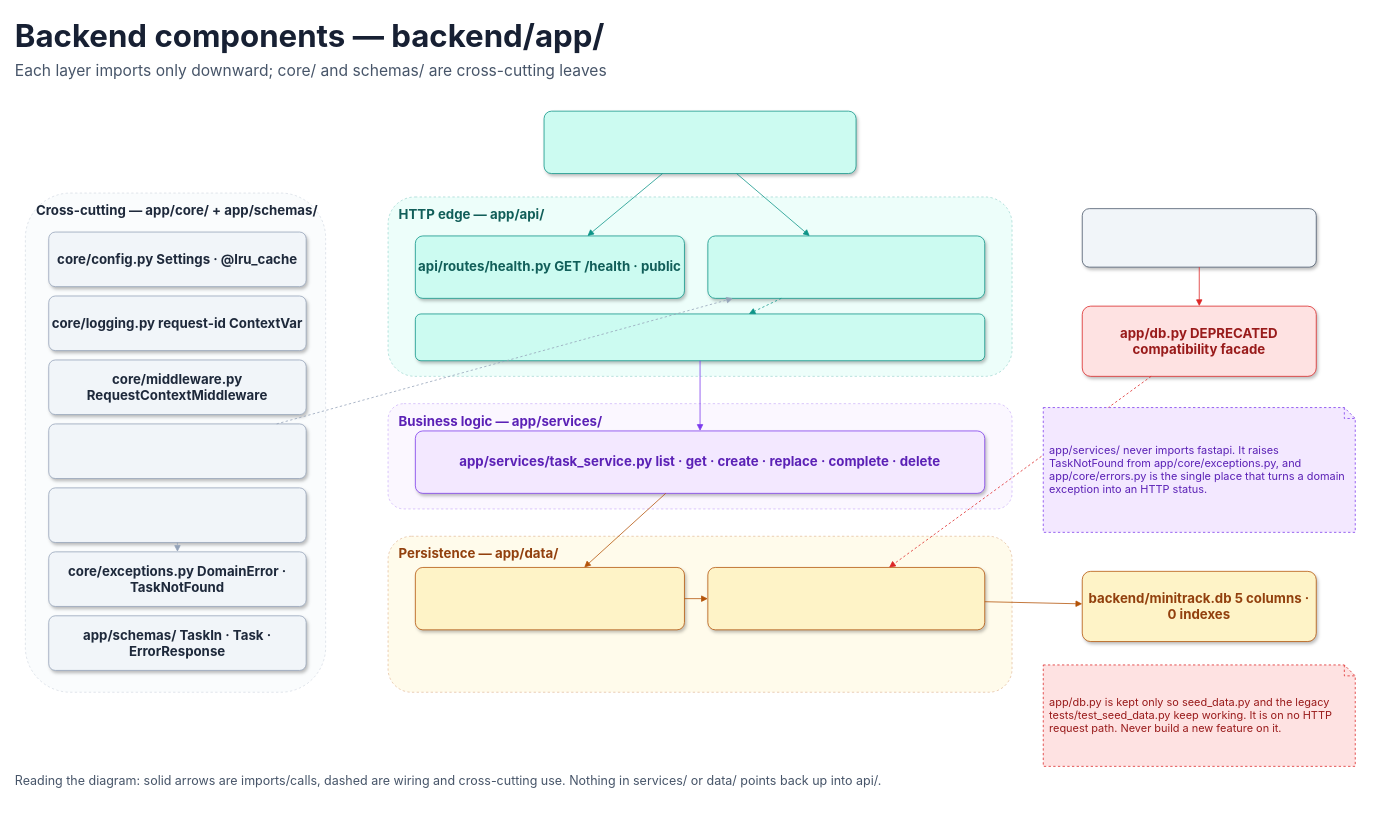
The diagram is 1399 pixels wide and 813 high, and some of its shapes have lost their labels. Here are the shapes that lost their labels. From the top down, the centre of each, then its label:
At pixel 700 143: "app/main.py create_app() · lifespan · middleware".
At pixel 1199 239: "seed_data.py + tests/test_seed_data.py".
At pixel 846 268: "api/routes/tasks.py 6 × /tasks · X-API-Key".
At pixel 700 338: "app/api/deps.py get_task_service → get_repository → get_settings".
At pixel 178 452: "core/security.py X-API-Key · hmac.compare_digest".
At pixel 178 516: "core/errors.py TaskNotFound → 404 · 422 join".
At pixel 550 599: "app/data/task_repository.py the only task SQL".
At pixel 846 599: "app/data/database.py the only sqlite3.connect()".
